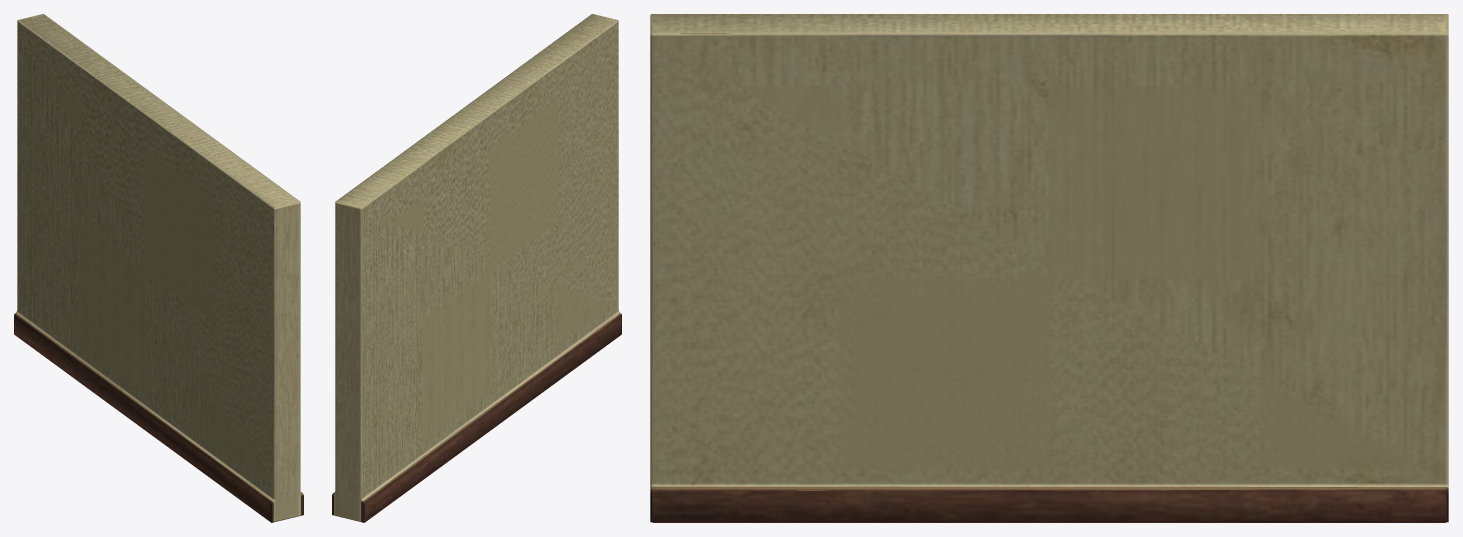
The model's file is tripo_convert_77338fa8-9fee-4a92-887d-5fb4ba761bfa.fbx.
3 views of the same model, side by side, from view 1: azimuth 30°, elevation 25°; view 2: azimuth 150°, elevation 25°; view 3: azimuth 270°, elevation 25° (orthographic). The views are drawn at different scales.
Visible parts, largest first — view 1: tripo_node_77338fa8; view 2: tripo_node_77338fa8; view 3: tripo_node_77338fa8.
Boxes of the visible parts, left/top/right/bottom form: tripo_node_77338fa8: left=14, top=14, right=303, bottom=522; tripo_node_77338fa8: left=332, top=14, right=621, bottom=522; tripo_node_77338fa8: left=650, top=14, right=1448, bottom=522.
Bounding box in the file's own units: 0.0762 × 0.6738 × 0.998.
Materials: 1 (1 with a texture image).
